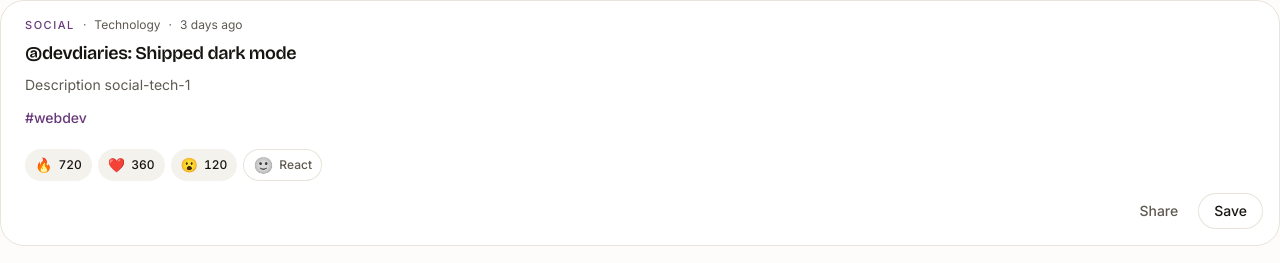
cards without a page of their own › shows no external link on a mock social post and shares its text instead
Click the button "Share": (1159, 210) [1127,192,1190,228]
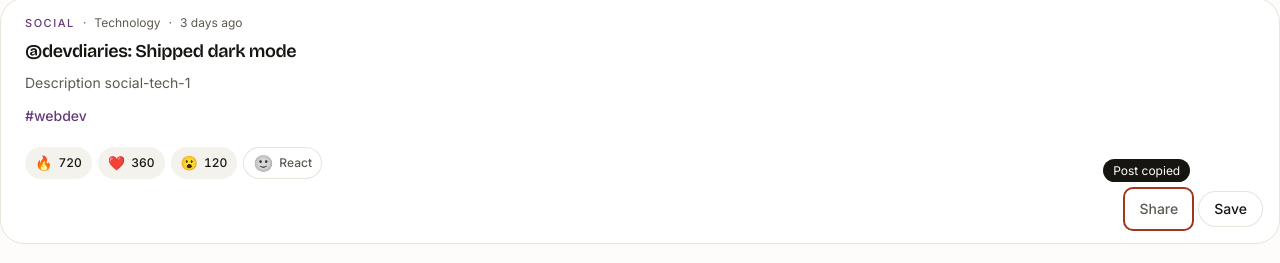
Check: the text "Post copied" is shown, box [1103,158,1190,182]
